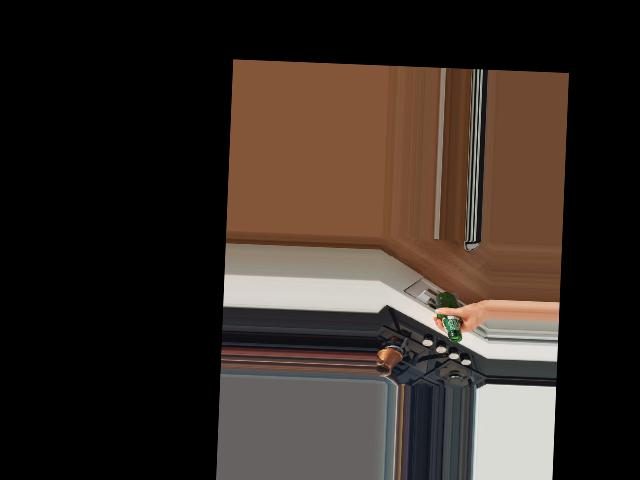beer: (434, 291, 464, 342)
